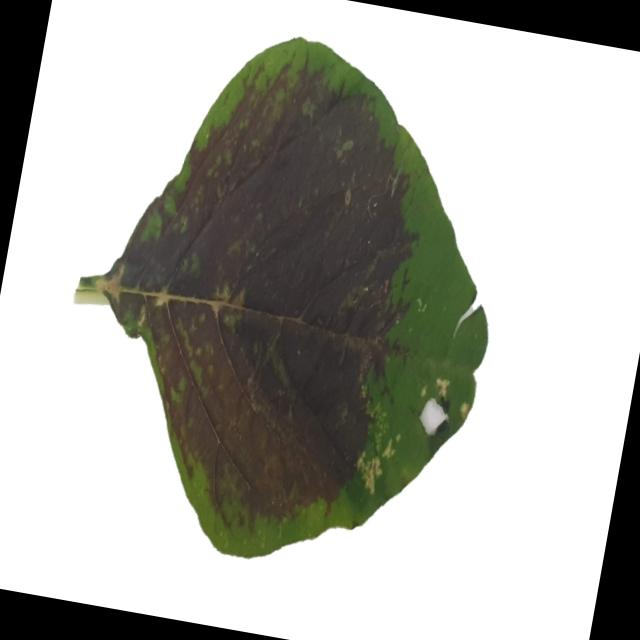Medicinal-Arive Dantu: (38, 3, 532, 590)
